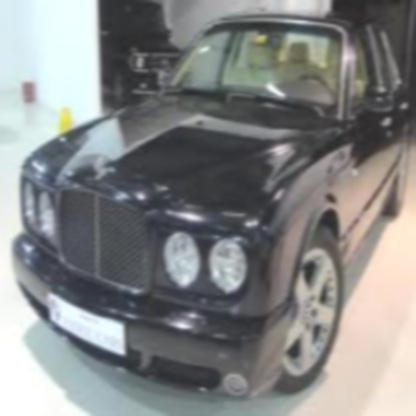Vehicle: (13, 18, 414, 394)
